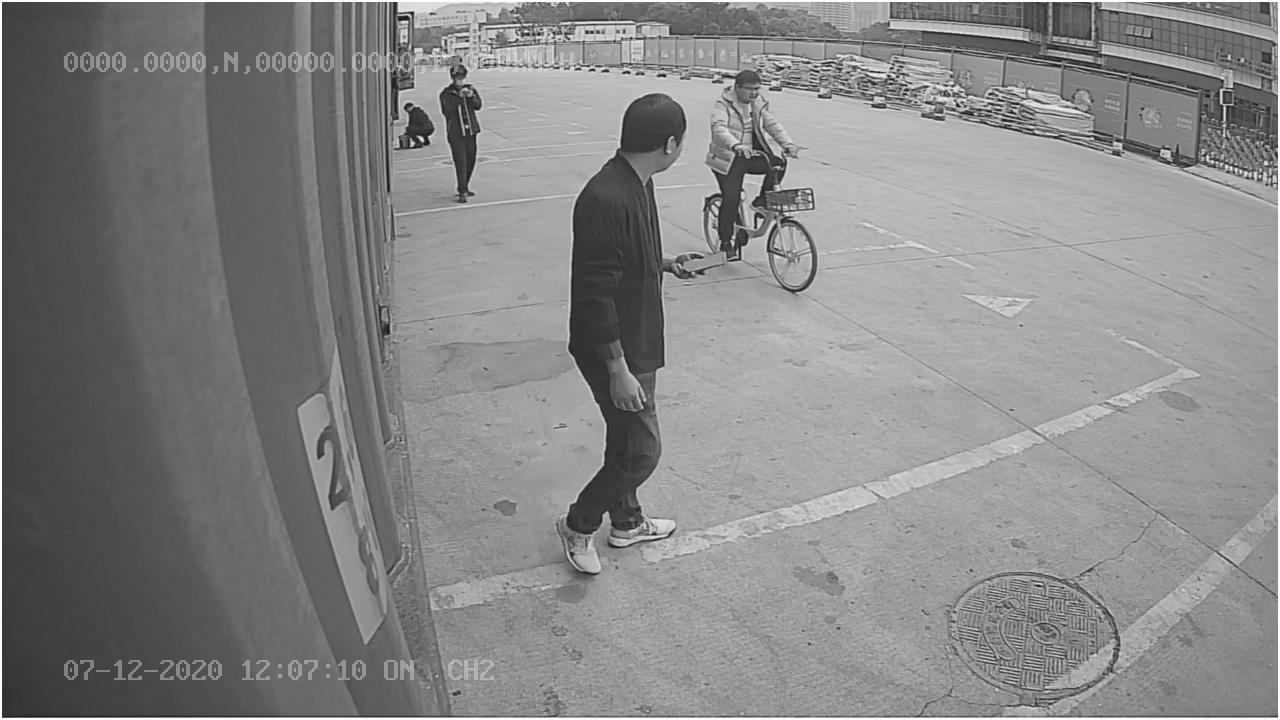person: (550, 76, 694, 573)
